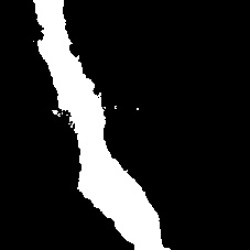crack: (33, 3, 170, 248)
pinhole: (130, 102, 150, 117), (111, 105, 118, 111)
